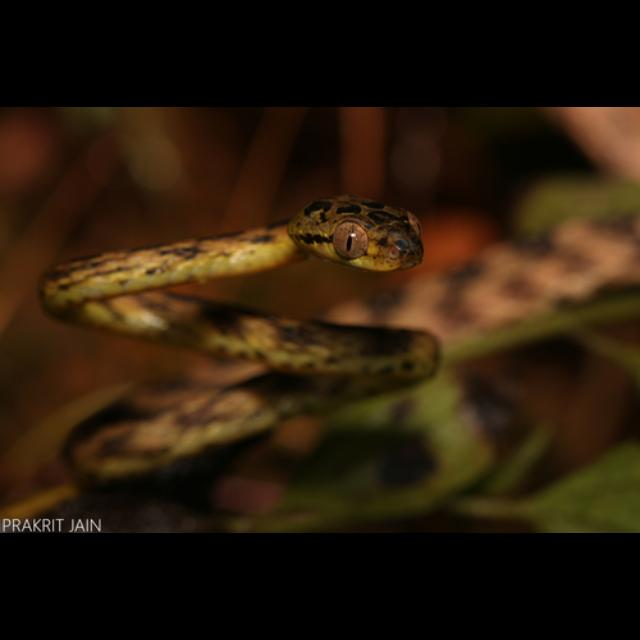snake: (39, 189, 443, 511)
